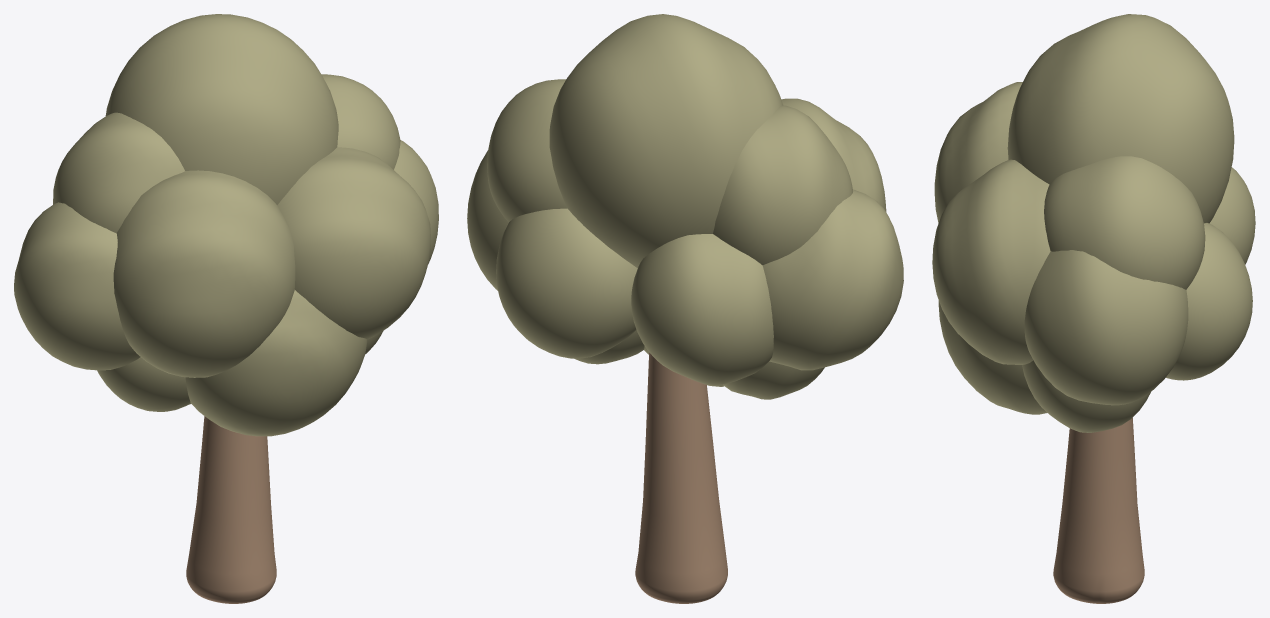
Rendered from agac-yuvarlak.glb.
The picture shows the model from 3 angles, left to right: view 1: azimuth 30°, elevation 25°; view 2: azimuth 150°, elevation 25°; view 3: azimuth 270°, elevation 25°; orthographic projection. The views are drawn at different scales.
Visible parts, largest first — view 1: 67R_AGAC_YUVARLAK_01_TAC, 67R_AGAC_YUVARLAK_01_GOVDE; view 2: 67R_AGAC_YUVARLAK_01_TAC, 67R_AGAC_YUVARLAK_01_GOVDE; view 3: 67R_AGAC_YUVARLAK_01_TAC, 67R_AGAC_YUVARLAK_01_GOVDE.
Part boxes in pixels (<box>): 67R_AGAC_YUVARLAK_01_TAC: <box>14,14,438,436</box>; 67R_AGAC_YUVARLAK_01_GOVDE: <box>186,416,276,603</box>; 67R_AGAC_YUVARLAK_01_TAC: <box>467,14,903,399</box>; 67R_AGAC_YUVARLAK_01_GOVDE: <box>635,352,727,603</box>; 67R_AGAC_YUVARLAK_01_TAC: <box>932,14,1255,432</box>; 67R_AGAC_YUVARLAK_01_GOVDE: <box>1053,417,1144,603</box>.
Bounding box in the file's own units: 4.28 × 5.66 × 2.92.
